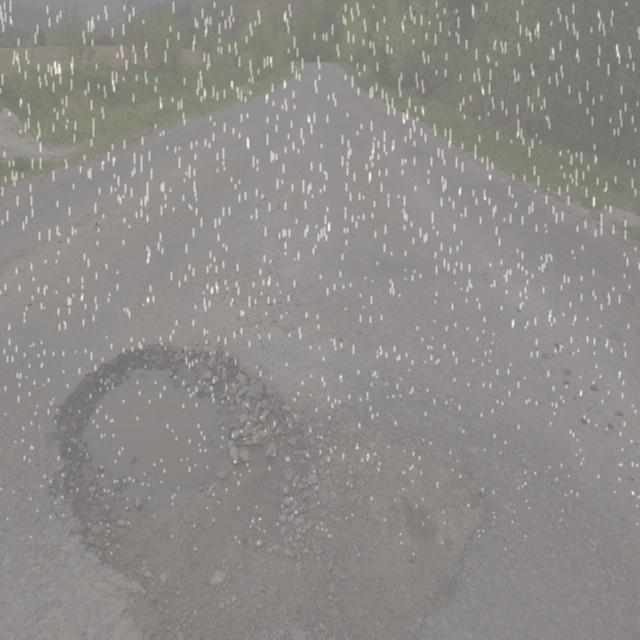Pothole: (56, 339, 315, 637)
